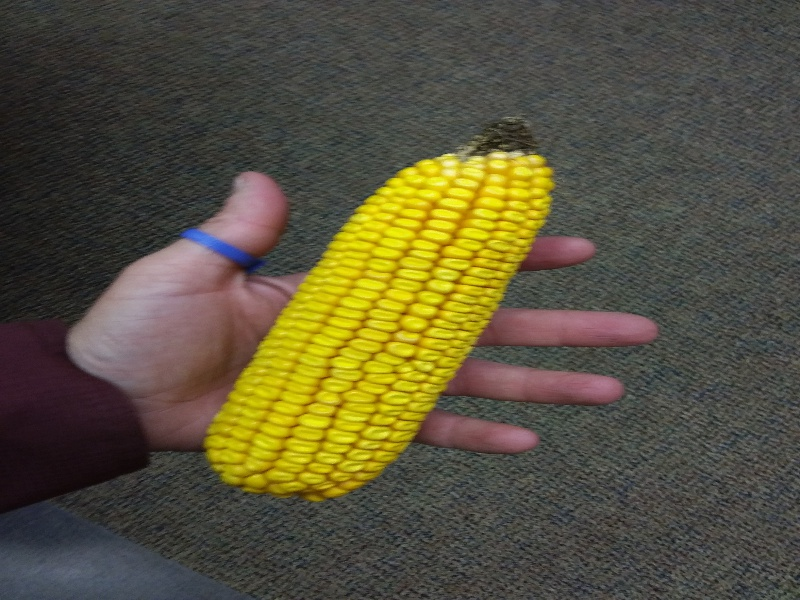band: (177, 224, 263, 275)
ear: (199, 113, 558, 507)
